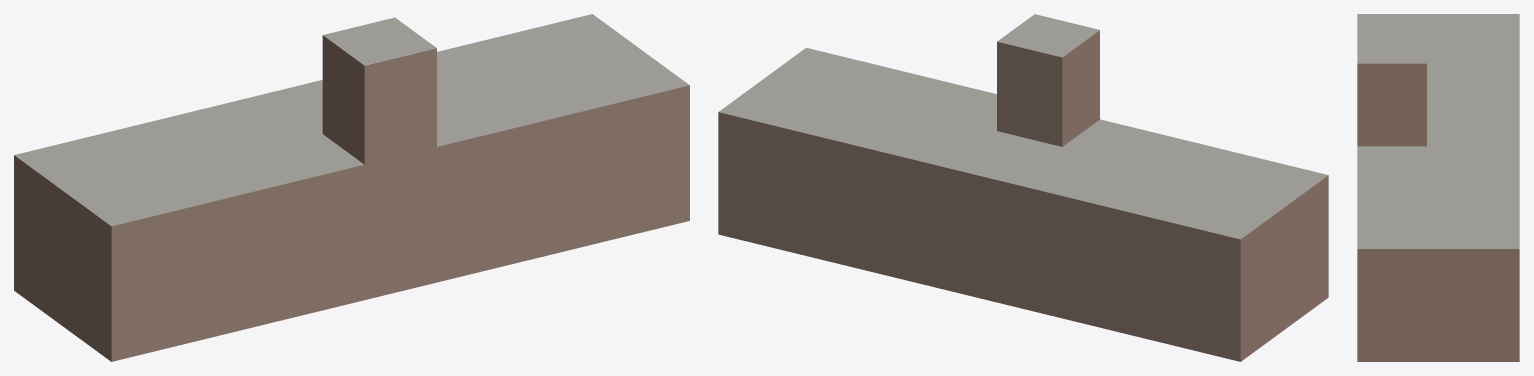
Rendered from rail-station.far-facades-v3.lod2.glb.
3 renders of one model, left to right at view 1: azimuth 30°, elevation 25°; view 2: azimuth 150°, elevation 25°; view 3: azimuth 270°, elevation 25°, orthographic. The views are drawn at different scales.
Visible parts, largest first — view 1: rail-station; view 2: rail-station; view 3: rail-station.
Part boxes in pixels (left/top/right/bottom): rail-station: left=14, top=14, right=689, bottom=361; rail-station: left=718, top=14, right=1328, bottom=361; rail-station: left=1357, top=14, right=1519, bottom=361.
Bounding box in the file's own units: 48 × 18.6 × 14.02.
